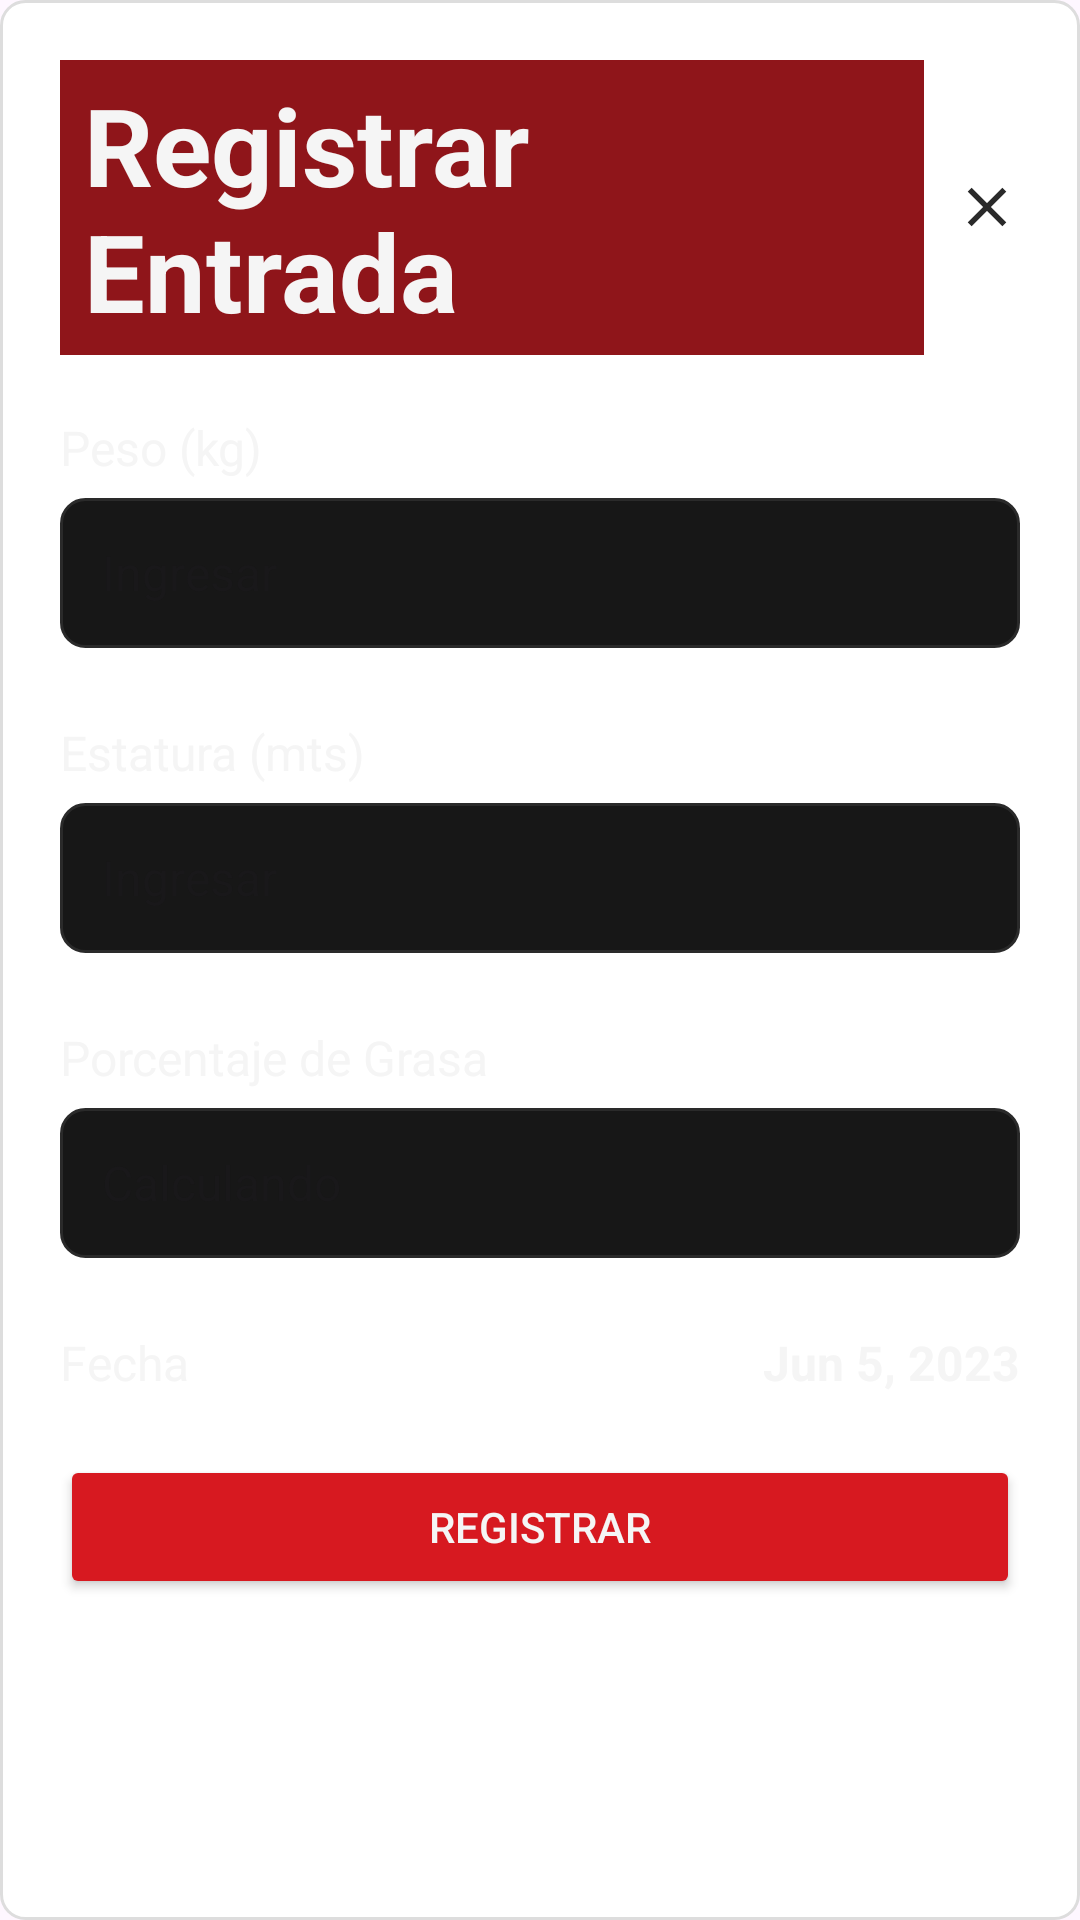

Icons on this 1080w x 1920h Android screen, each with its box as (x1, y1, x2, y2):
cerrar: (968, 188, 1006, 226)
